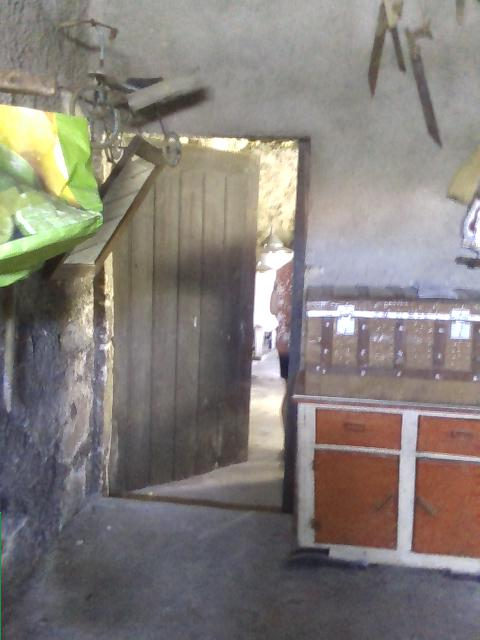semi_door: (96, 127, 313, 516)
